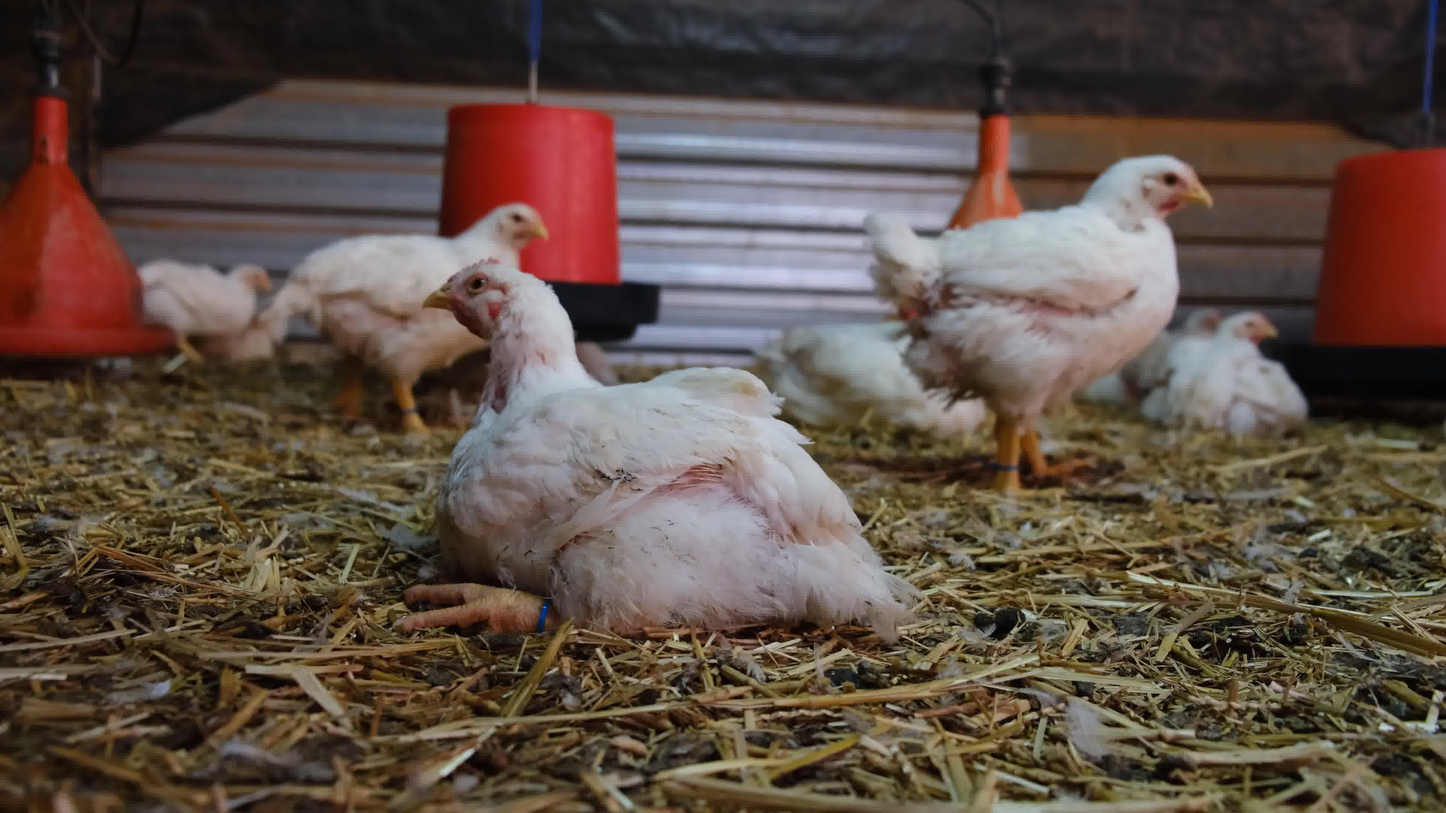AbNormal: (394, 256, 917, 628), (752, 317, 997, 432), (1162, 313, 1315, 443), (1082, 301, 1234, 416), (191, 317, 298, 369)
Normal: (870, 151, 1217, 499), (269, 204, 548, 456), (128, 254, 274, 377)
